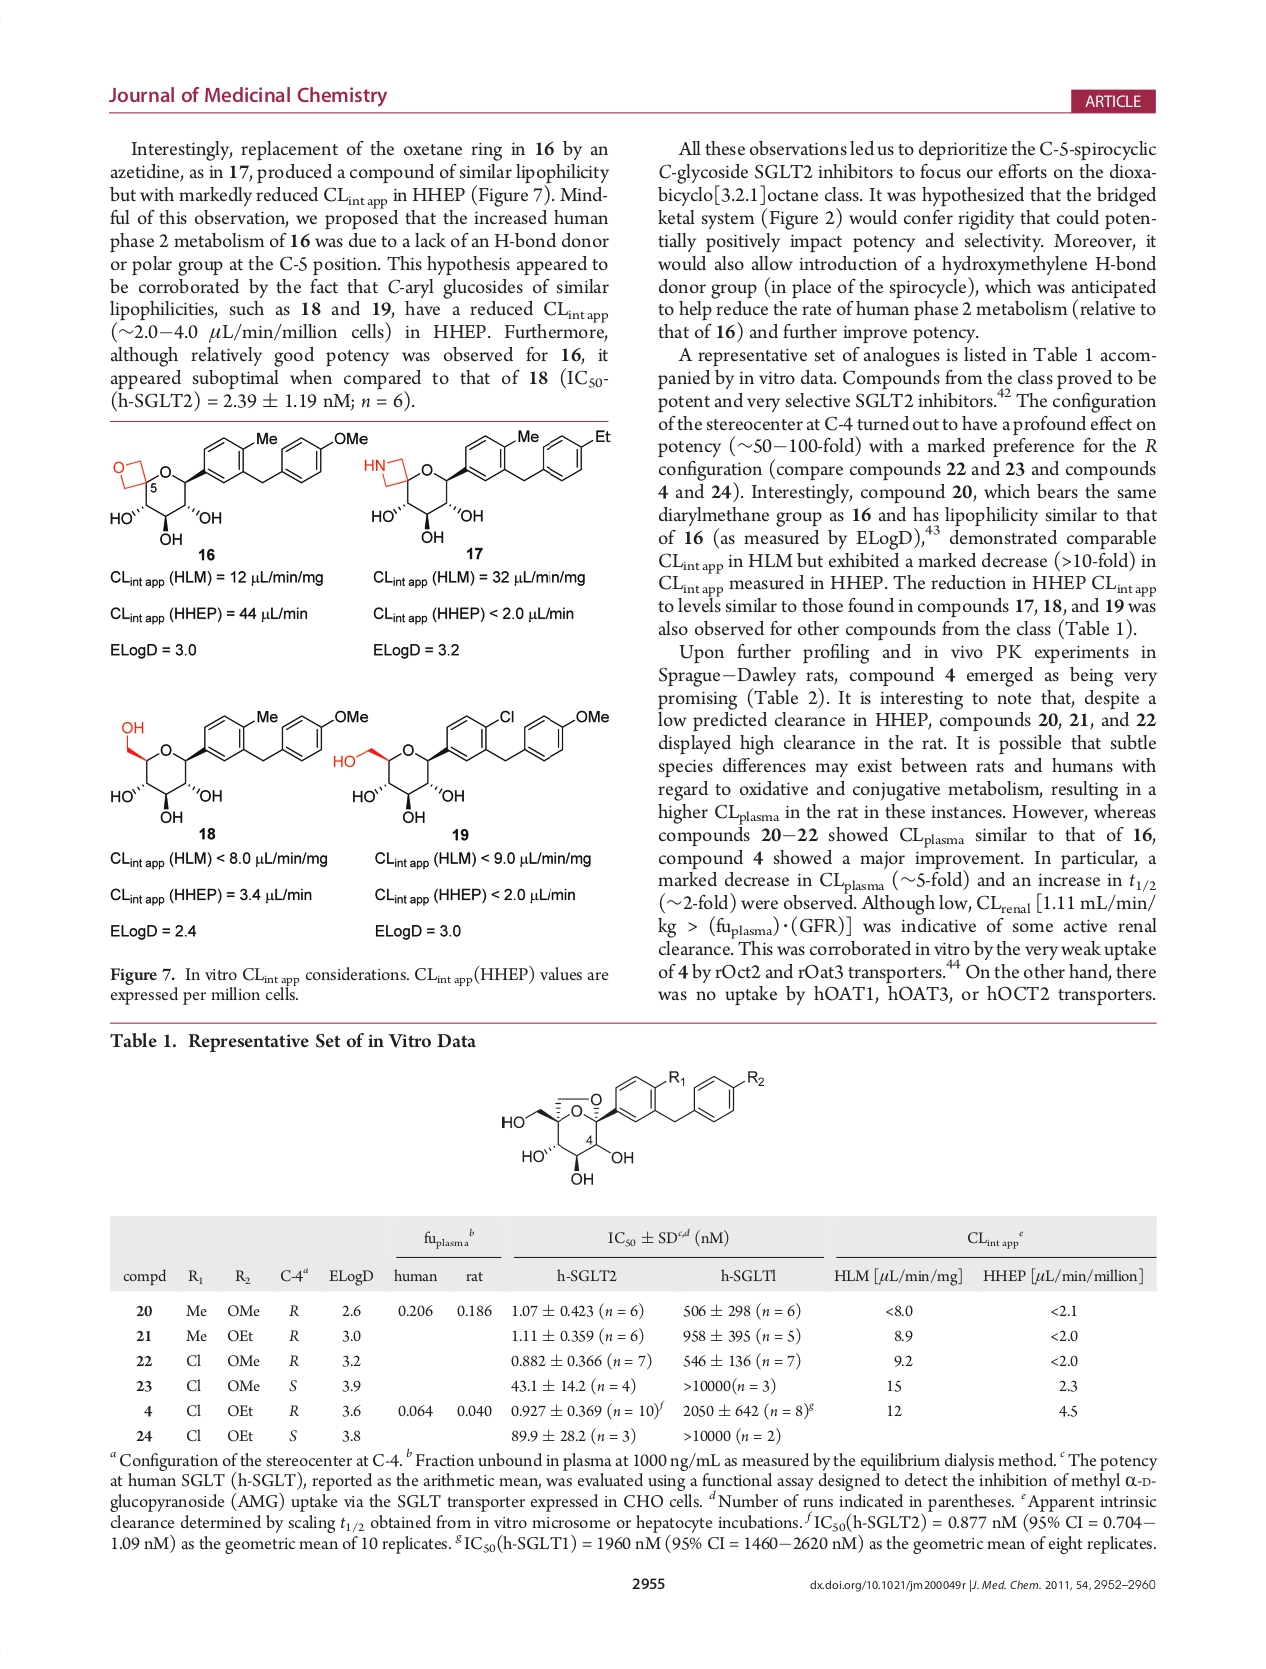exist_molecular: (330, 706, 614, 825), (497, 1068, 769, 1189), (105, 430, 367, 547), (108, 707, 370, 825), (362, 426, 613, 545)
